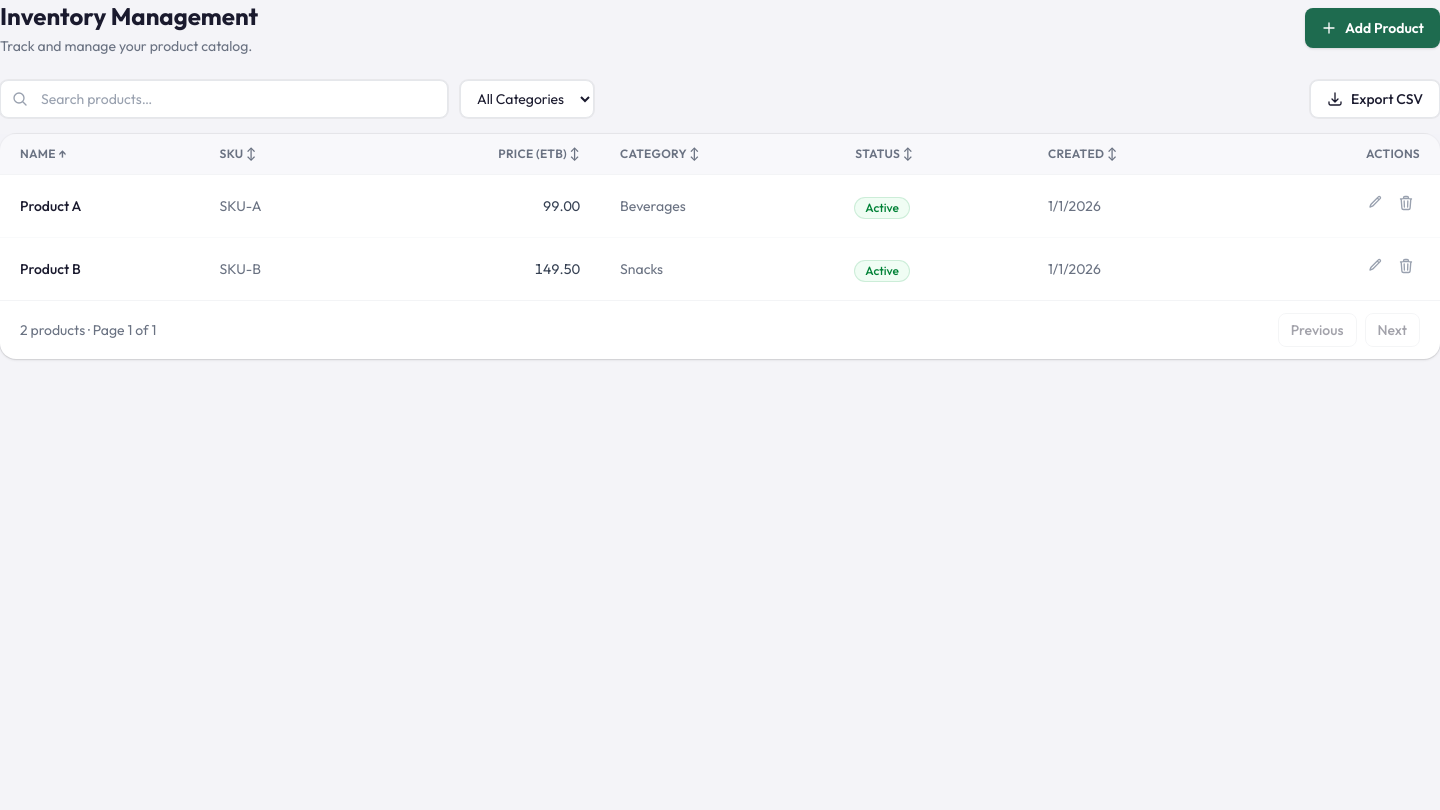
Test case: InventoryPage › validates product form before submission
Expected: the text "Product A" is shown, [0, 174, 200, 238]
// Open create modal
Click the button "Add Product". click: click(1373, 28)
box: [1305, 8, 1439, 48]
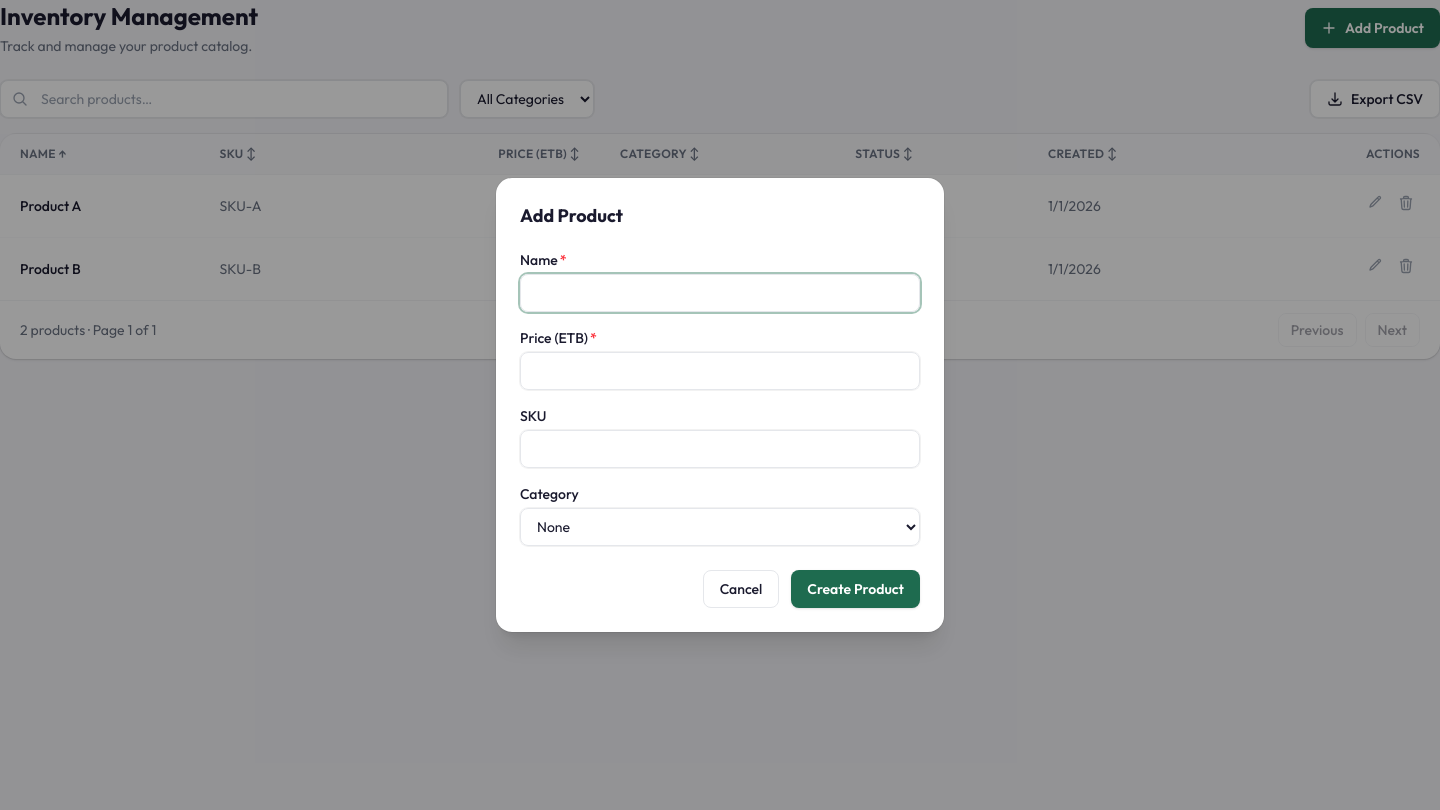
Expected: the field labelled "Name*" is shown, [520, 274, 920, 312]
// Try to submit without name
Click the button "Create Product". click: click(856, 589)
box: [791, 570, 920, 608]
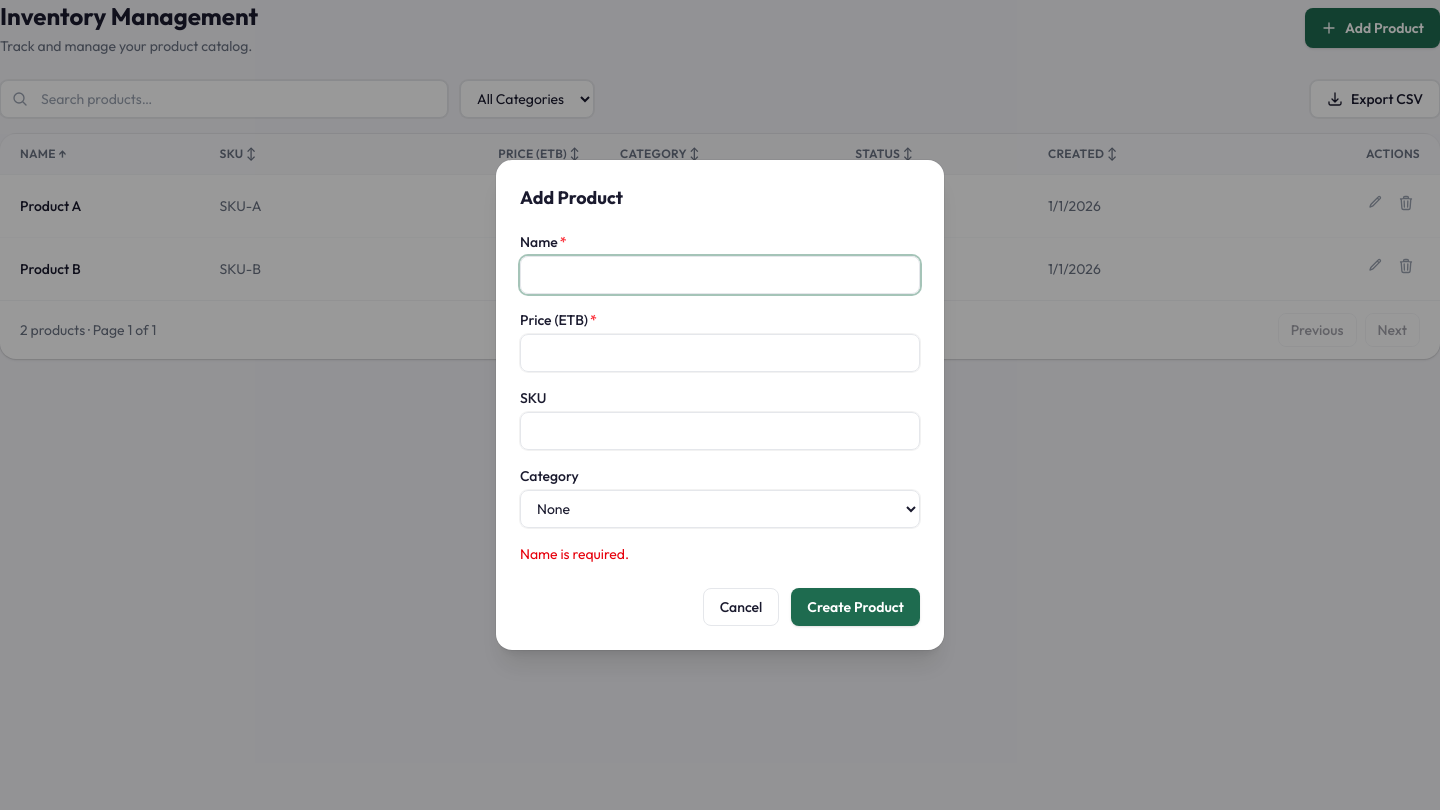
Expected: the text "Name is required." is shown, [520, 545, 629, 563]
